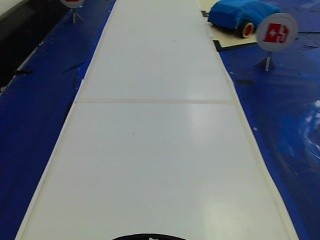battery: (258, 18, 294, 50)
car: (203, 0, 279, 38)
